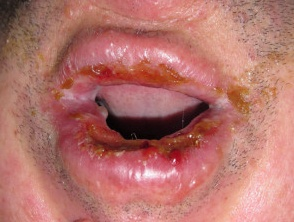SJS-TEN: (53, 89, 268, 196), (46, 48, 234, 112)
